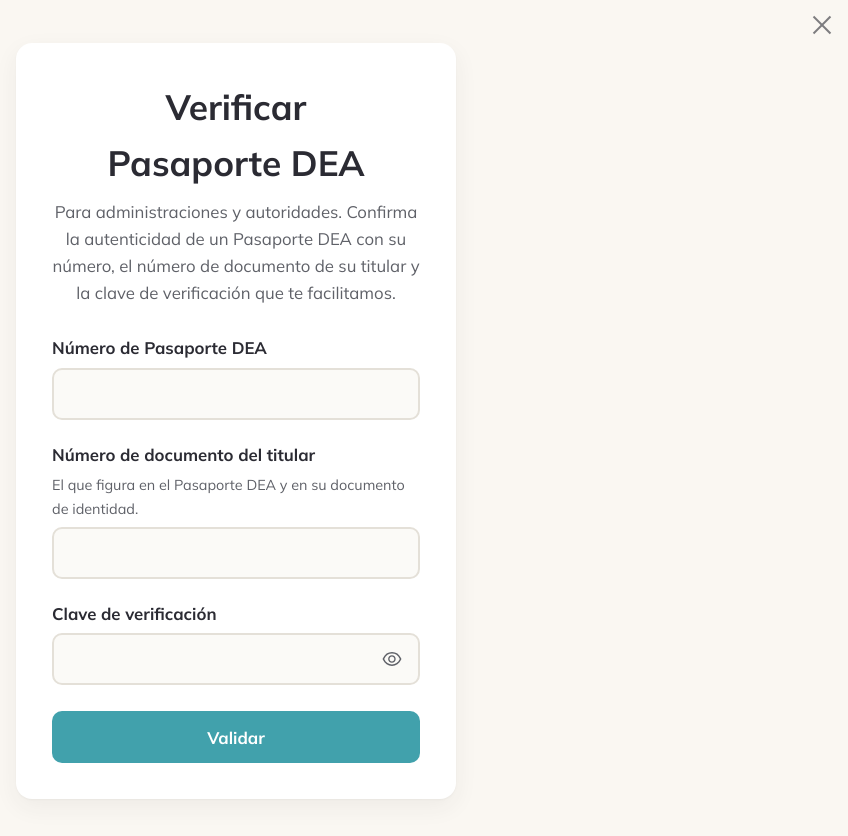
it: the document number is required
The width and height of the screenshot is (848, 836).
Type "1001" into the field labelled "Número de Pasaporte DEA".
click(236, 394); type("1001")  # box [52,368,420,420]
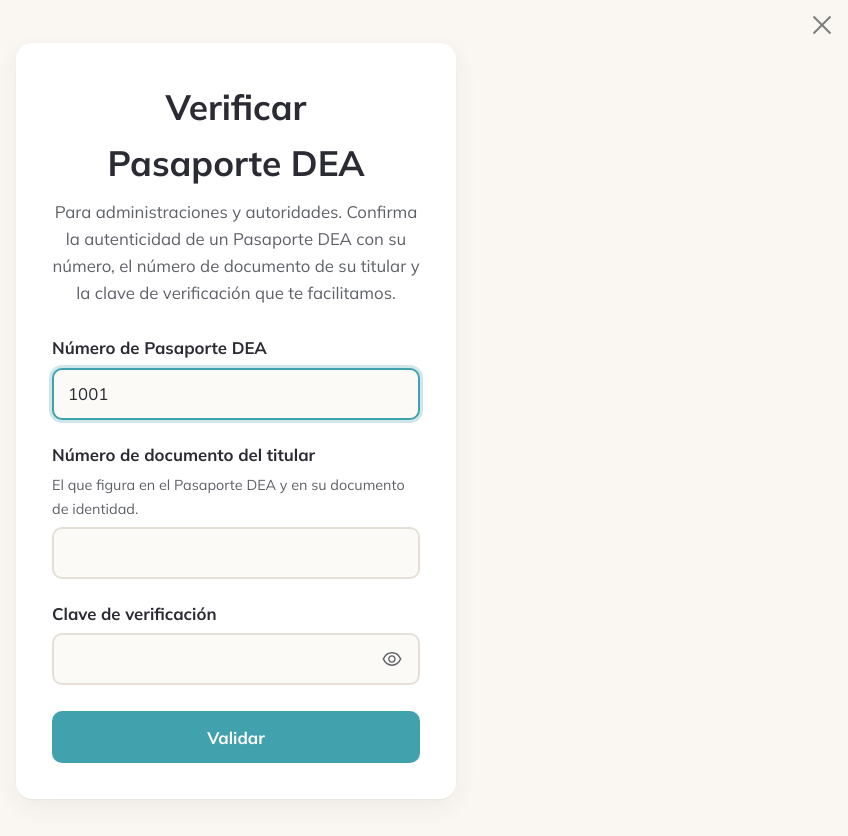
Type "clave-de-prueba" into the password field labelled "Clave de verificación".
click(236, 659); type("clave-de-prueba")  # box [52,633,420,685]
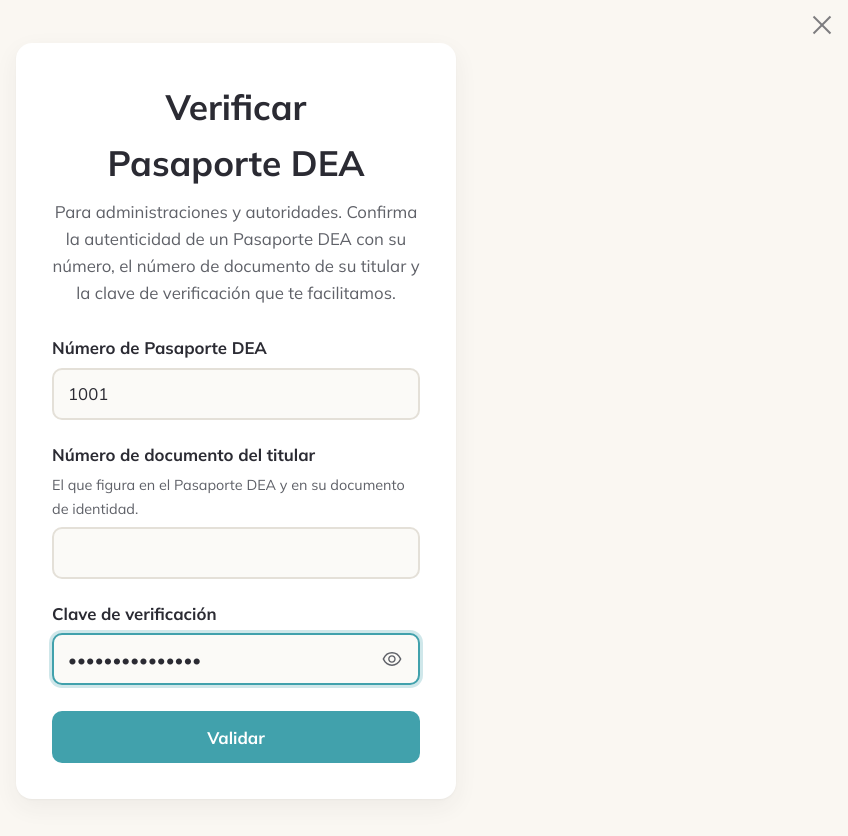
Click the button "Validar".
click(236, 737)  # box [52,711,420,763]
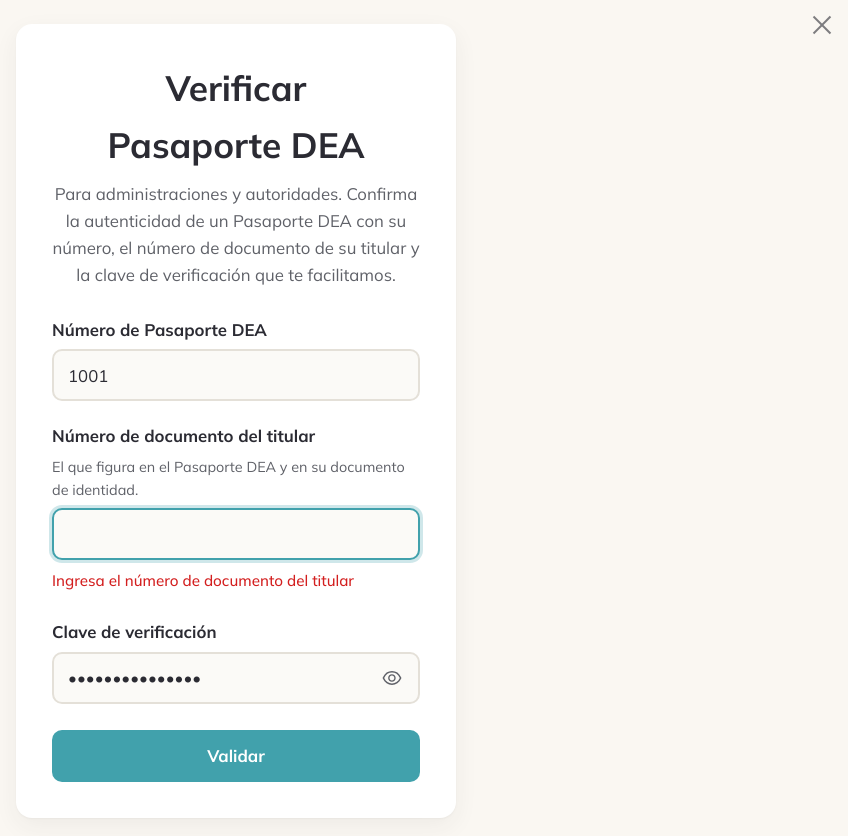
expect the text "Ingresa el número de documento del titular" is shown: met, box [52,571,354,590]
